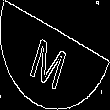M_NE: (33, 22, 77, 88)
